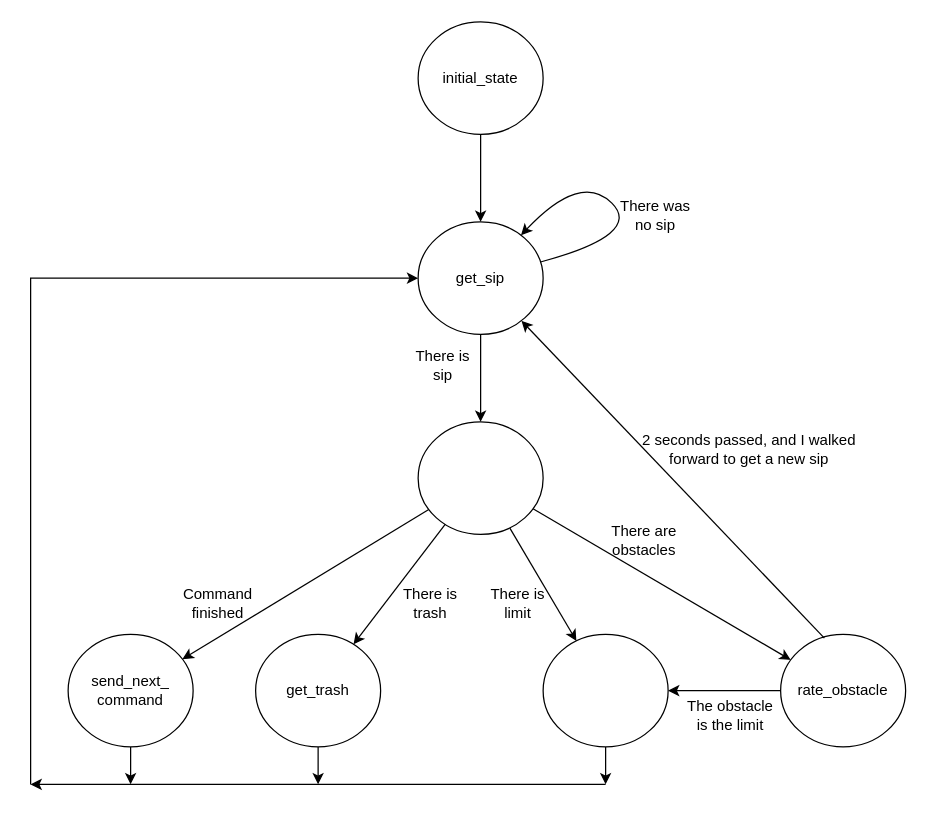
This 928x816 diagram has some shape labels left out. The centre of each missing label's shape, as x and y in pixels:
change_direction: [605,690]
process_sip: [480,477]
